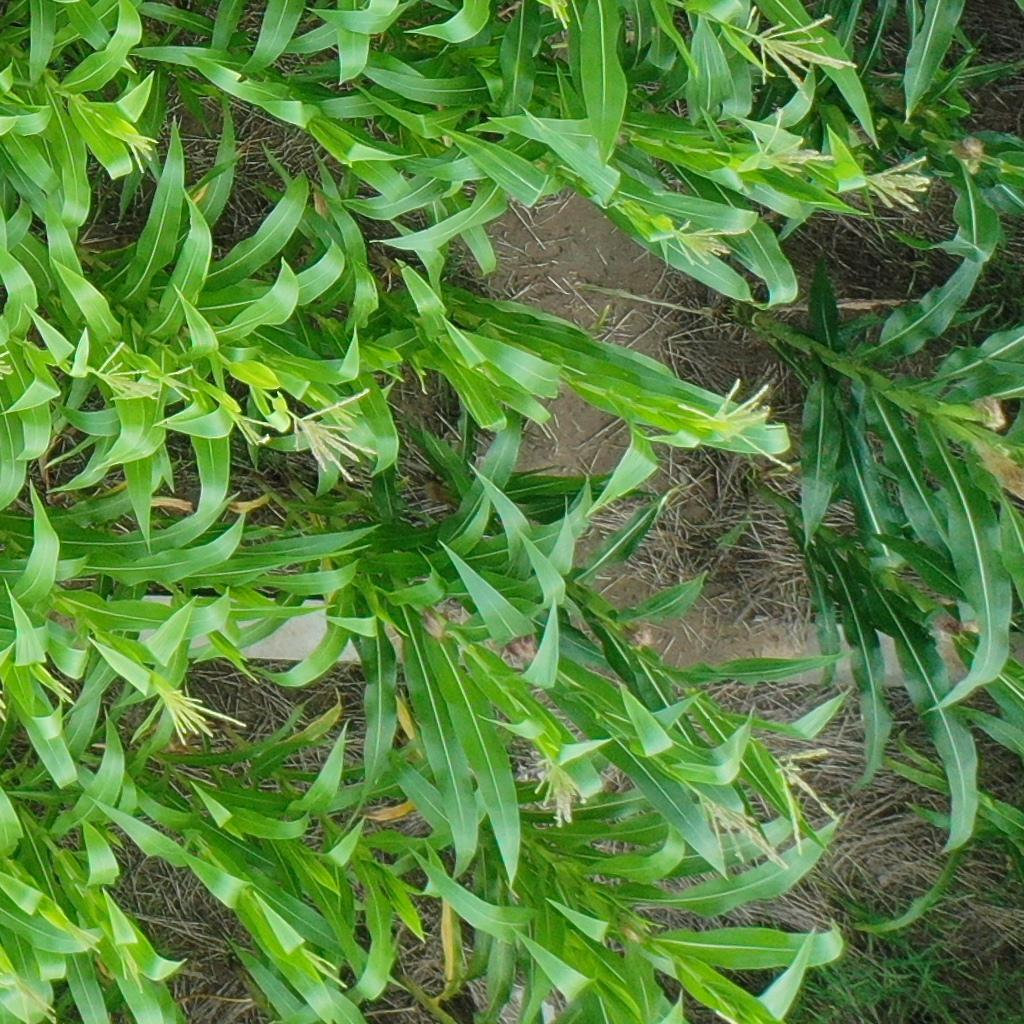Tassel: (740, 5, 860, 102), (676, 379, 797, 471), (289, 388, 379, 484), (772, 745, 840, 856), (699, 794, 789, 874), (751, 106, 834, 179), (158, 689, 250, 747), (649, 218, 746, 269), (866, 153, 933, 217), (95, 342, 158, 403), (533, 763, 587, 828), (298, 945, 349, 989), (29, 661, 76, 706), (59, 916, 104, 958), (18, 983, 59, 1024), (231, 409, 275, 447), (117, 944, 149, 994), (124, 131, 159, 173), (161, 365, 200, 401), (548, 1, 571, 30), (1, 351, 14, 382)
